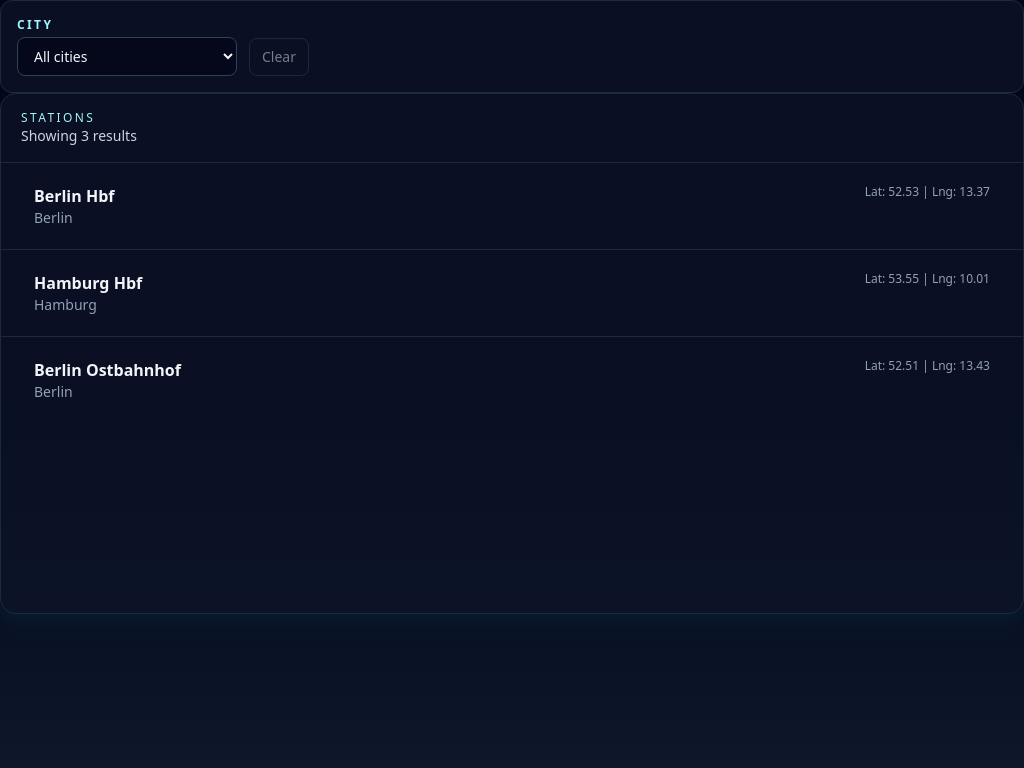
Stations integration › filters the station list when a city is selected
The image size is (1024, 768).
Check: the text "Berlin Hbf" is shown, box [34,184,114,208]
Check: the number of list items is 3, box [1,163,1023,250]; [1,250,1023,337]; [1,337,1023,423]
Select "Berlin" in the dropdown labelled "City" at (127, 56), box [17,37,237,76]
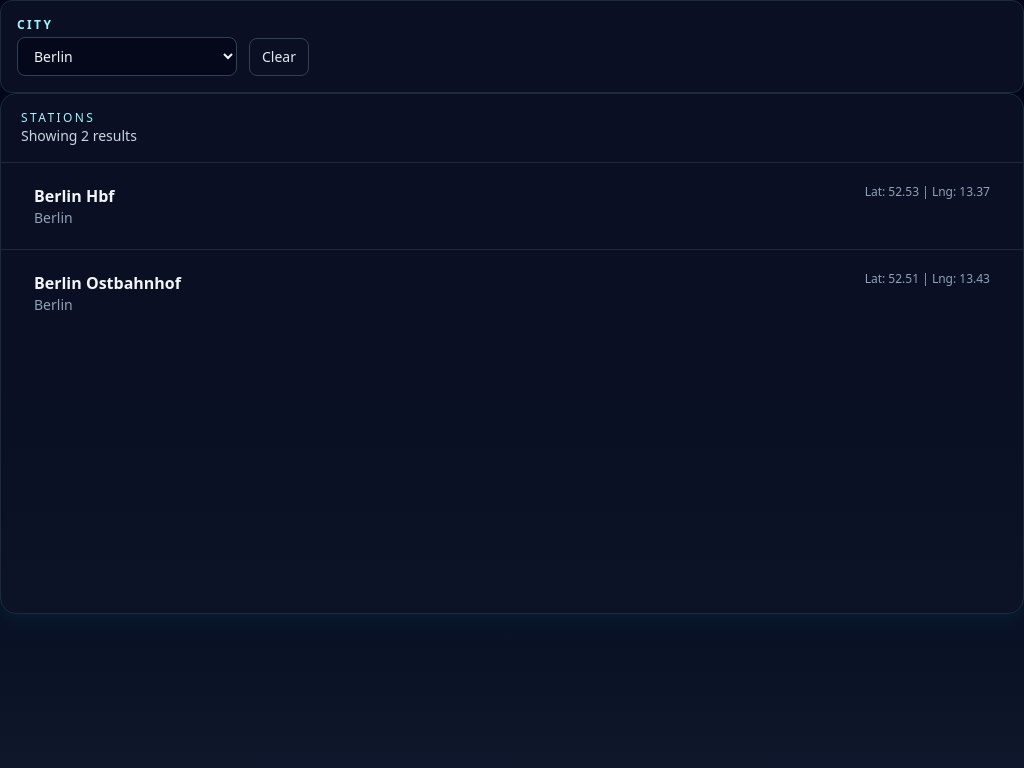
Check: the number of list items is 2, box [1,163,1023,250]; [1,250,1023,336]
Check: the button "Hamburg Hbf" is gone
